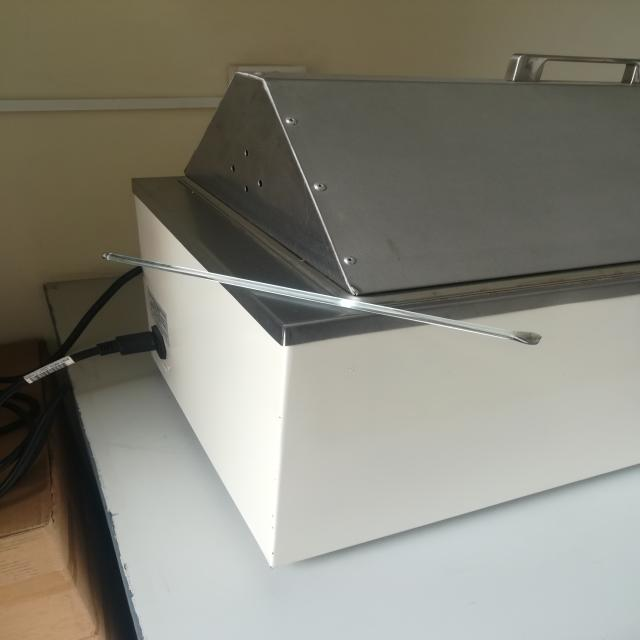Glass_Rod: (85, 233, 562, 377)
